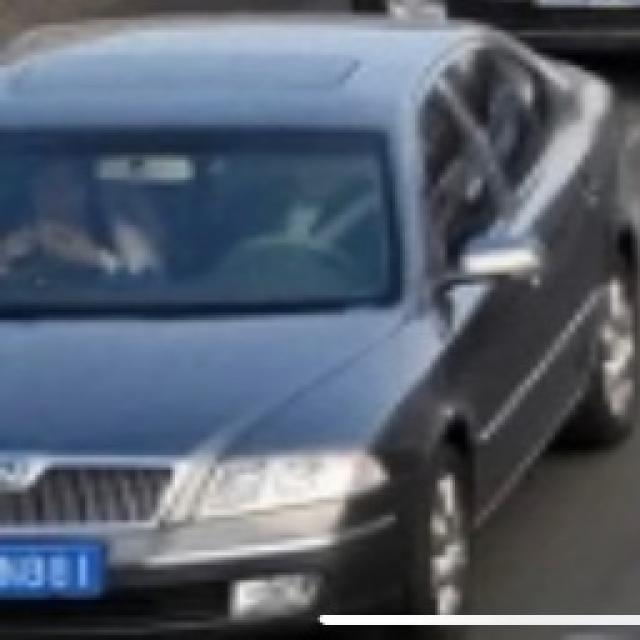windshield: (0, 121, 407, 323)
